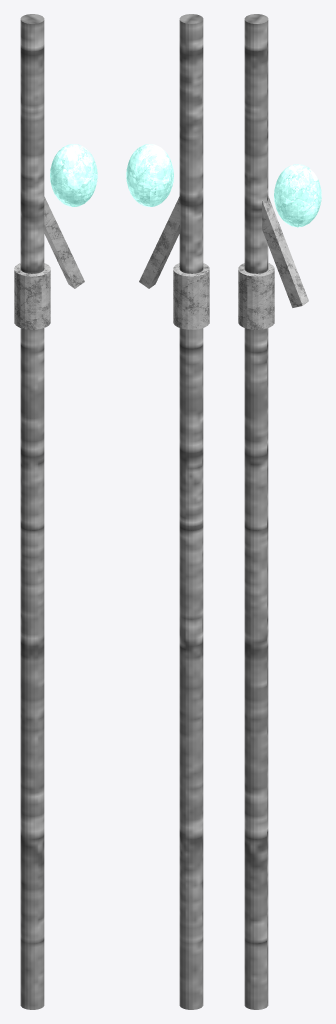
Rendered from staff-spirit-simple.glb.
The picture shows the model from 3 angles, left to right: view 1: azimuth 30°, elevation 25°; view 2: azimuth 150°, elevation 25°; view 3: azimuth 330°, elevation 25°; orthographic projection.
Parts seen in each view (by area): view 1: shaft, whisper, bone-cap, hook; view 2: shaft, whisper, bone-cap, hook; view 3: shaft, whisper, bone-cap, hook.
Part boxes in pixels (<box>): shaft: <box>20,14,44,1009</box>; whisper: <box>50,144,97,206</box>; bone-cap: <box>14,263,50,329</box>; hook: <box>44,196,84,288</box>; shaft: <box>179,14,203,1009</box>; whisper: <box>126,144,173,206</box>; bone-cap: <box>173,263,209,329</box>; hook: <box>139,196,179,288</box>; shaft: <box>244,14,268,1009</box>; whisper: <box>274,164,321,227</box>; bone-cap: <box>238,263,274,329</box>; hook: <box>262,196,308,307</box>.
Size of the model in its own units: 0.245 by 2.96 by 0.13.
3 materials, 3 textured.
